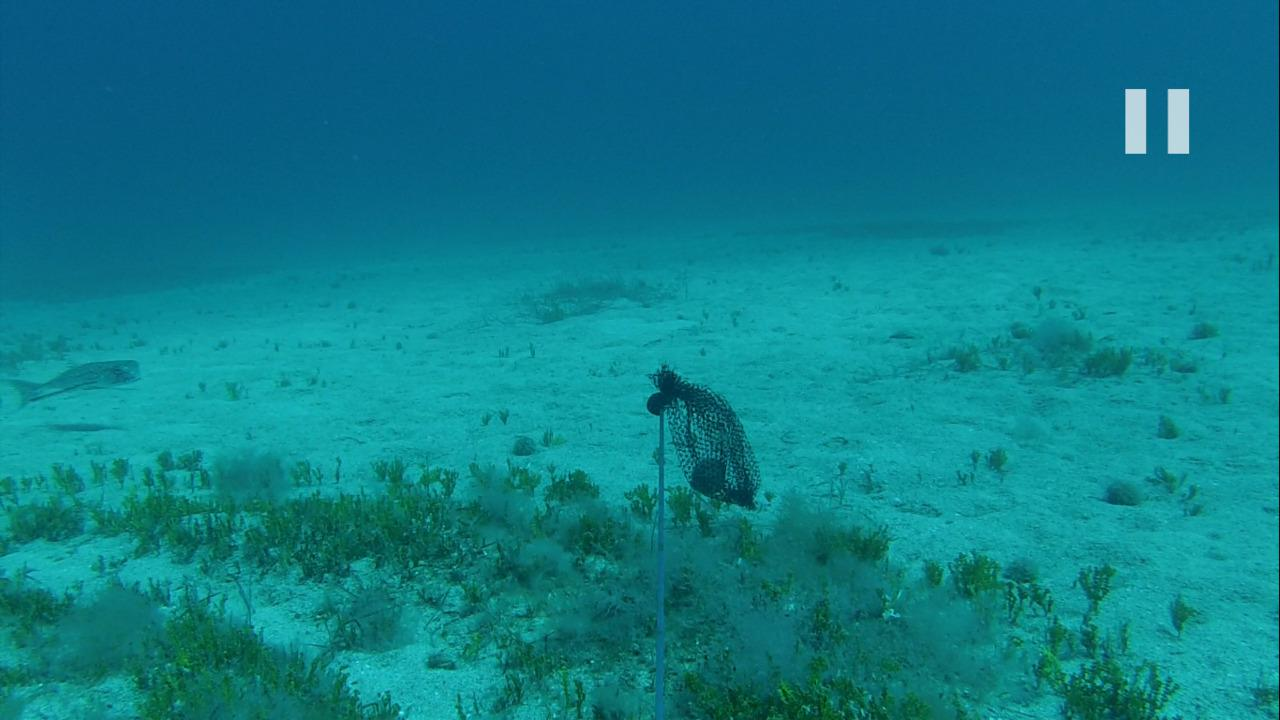dactylopterus: (6, 353, 150, 404)
